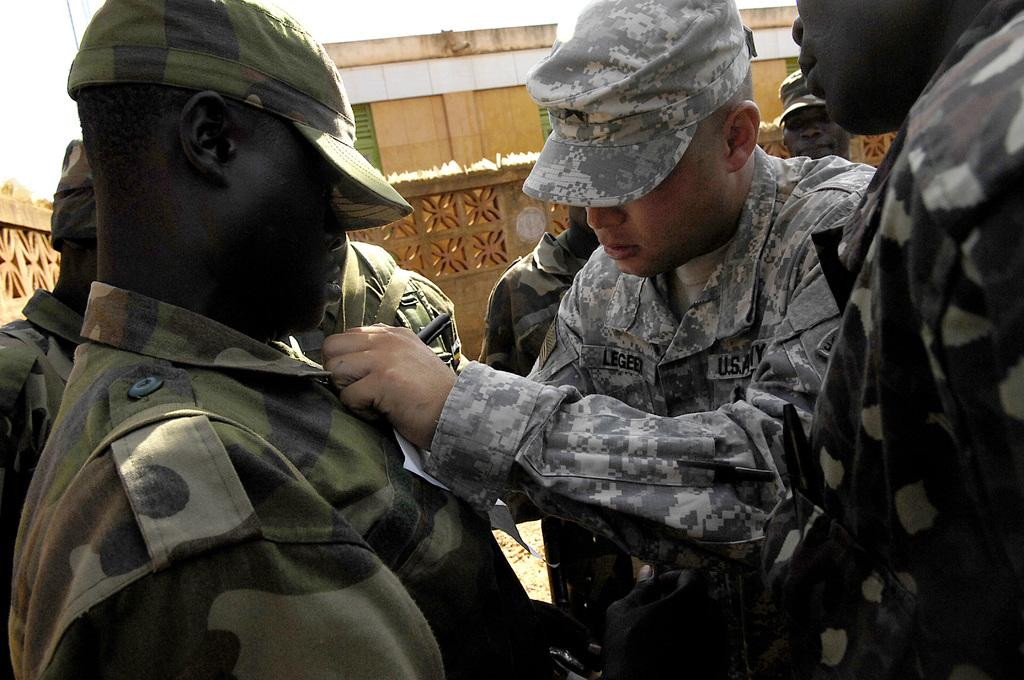Hat: (66, 0, 416, 233), (518, 0, 754, 206), (48, 140, 100, 252), (778, 68, 826, 131)
